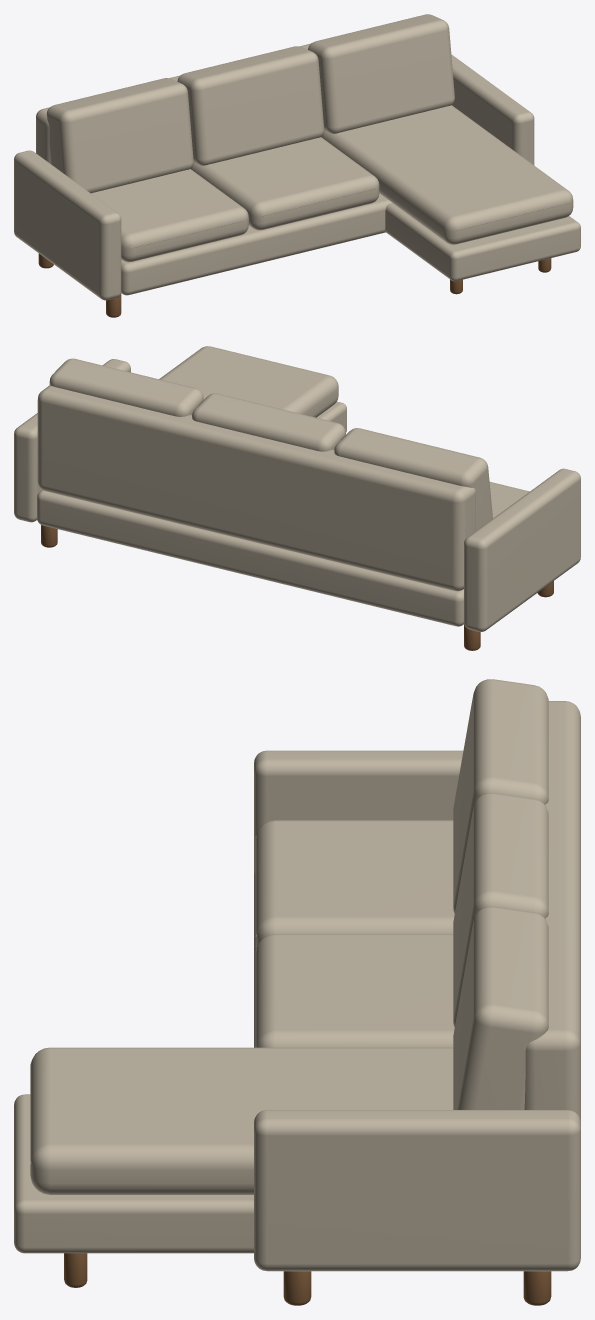
File: mannarp.glb
3 views of the same model, one above another, from view 1: azimuth 30°, elevation 25°; view 2: azimuth 150°, elevation 25°; view 3: azimuth 270°, elevation 25° (orthographic). The views are drawn at different scales.
Parts seen in each view (by area): view 1: Seat cushion 3, Back cushion 1, Back cushion 2, Back cushion 3, Seat cushion 2, Arm, Upholstered base, Seat cushion 1, Chaise extension frame, Arm.001, Back structure; view 2: Back structure, Upholstered base, Arm, Seat cushion 3, Back cushion 1, Back cushion 3, Back cushion 2, Arm.001, Seat cushion 1, Chaise extension frame; view 3: Arm.001, Seat cushion 3, Seat cushion 1, Seat cushion 2, Back cushion 3, Chaise extension frame, Back structure, Arm, Back cushion 2, Back cushion 1, Wood foot.002, Wood foot.003 (+1 smaller).
Part boxes in pixels (x1,y1,x2,y2): Seat cushion 3: [321, 105, 573, 244]; Back cushion 1: [46, 78, 193, 193]; Back cushion 2: [177, 46, 324, 165]; Back cushion 3: [308, 14, 454, 133]; Seat cushion 2: [190, 137, 379, 230]; Arm: [14, 150, 121, 300]; Upholstered base: [121, 193, 391, 295]; Seat cushion 1: [91, 169, 248, 262]; Chaise extension frame: [385, 203, 580, 281]; Arm.001: [451, 54, 534, 165]; Back structure: [36, 43, 310, 163]; Back structure: [37, 385, 475, 591]; Upholstered base: [37, 490, 463, 626]; Arm: [464, 468, 580, 631]; Seat cushion 3: [159, 346, 338, 417]; Back cushion 1: [334, 428, 492, 530]; Back cushion 3: [49, 358, 203, 416]; Back cushion 2: [192, 393, 345, 451]; Arm.001: [14, 359, 130, 522]; Seat cushion 1: [489, 482, 529, 518]; Chaise extension frame: [317, 401, 346, 432]; Arm.001: [254, 1110, 580, 1271]; Seat cushion 3: [30, 1047, 453, 1194]; Seat cushion 1: [255, 820, 454, 949]; Seat cushion 2: [256, 934, 454, 1047]; Back cushion 3: [453, 906, 548, 1109]; Chaise extension frame: [14, 1094, 253, 1253]; Back structure: [524, 701, 580, 1121]; Arm: [254, 750, 463, 874]; Back cushion 2: [453, 793, 548, 1027]; Back cushion 1: [453, 679, 548, 913]; Wood foot.002: [283, 1271, 311, 1305]; Wood foot.003: [523, 1271, 551, 1305].
Size of the model in its own units: 2.46 by 0.8811 by 1.56.
